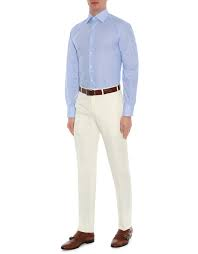F_M_suit jacket: (75, 81, 126, 100)
F_shirt: (66, 13, 137, 121)
